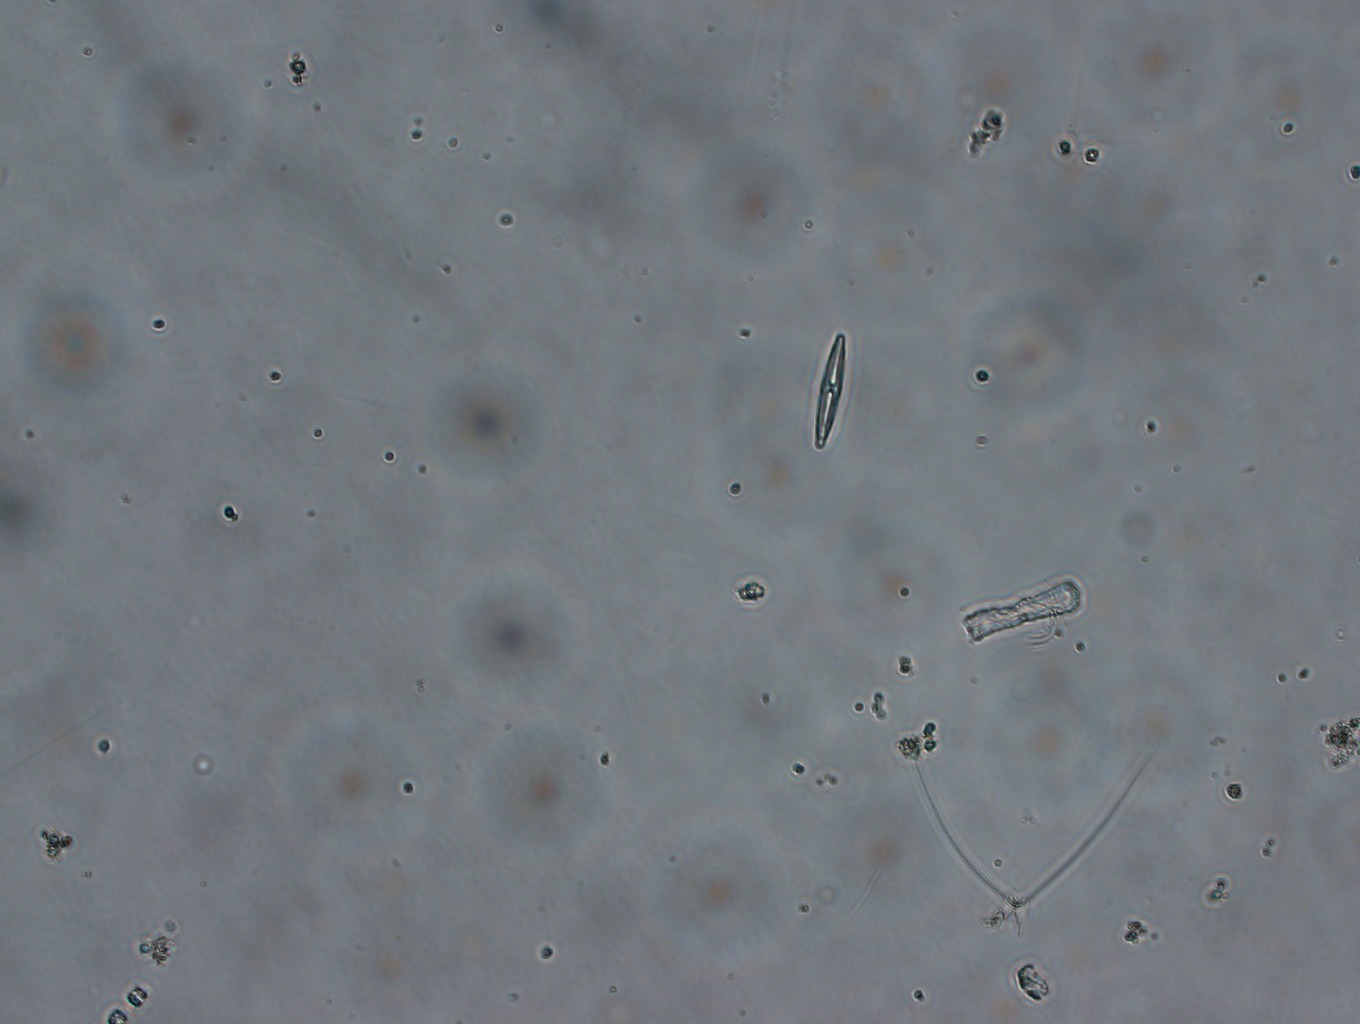chaetoceros: (889, 707, 1169, 930)
navicula: (794, 314, 857, 457)
